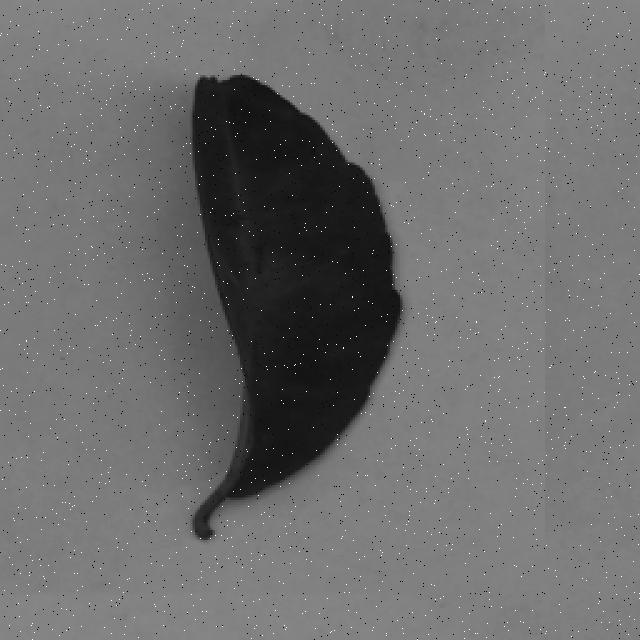greening: (114, 48, 418, 557)
